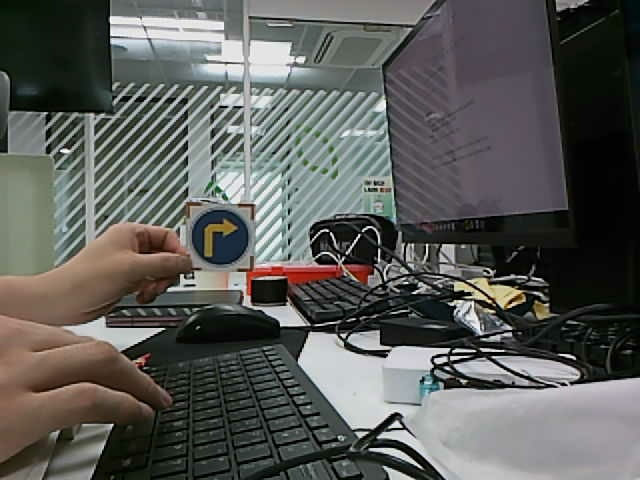right: (191, 209, 250, 266)
